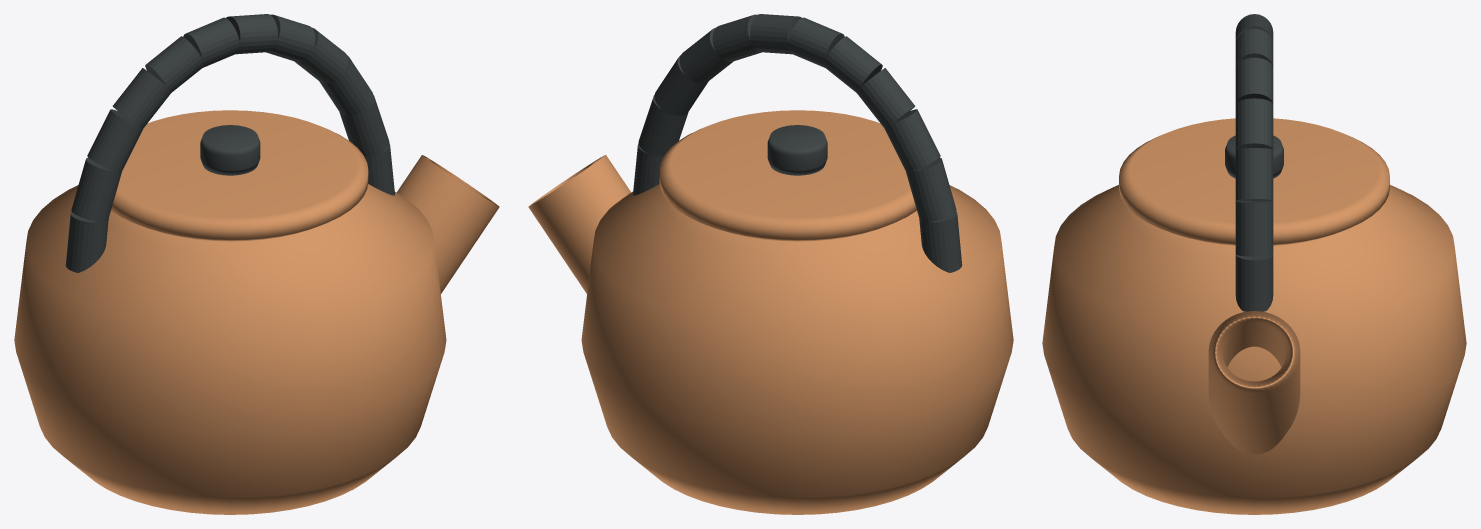
The model's file is tea-garden-and-processing-house-tea-garden-and-process-d01e9bfe__30790.glb.
3 renders of one model, left to right at view 1: azimuth 30°, elevation 25°; view 2: azimuth 150°, elevation 25°; view 3: azimuth 270°, elevation 25°, orthographic.
Parts seen in each view (by area): view 1: tea-garden-and-processing-house-kettle; view 2: tea-garden-and-processing-house-kettle; view 3: tea-garden-and-processing-house-kettle.
Boxes of the visible parts, <box> form: tea-garden-and-processing-house-kettle: <box>14,14,499,514</box>; tea-garden-and-processing-house-kettle: <box>528,14,1013,514</box>; tea-garden-and-processing-house-kettle: <box>1042,14,1466,514</box>.
Size of the model in its own units: 0.4315 by 0.3958 by 0.36.
